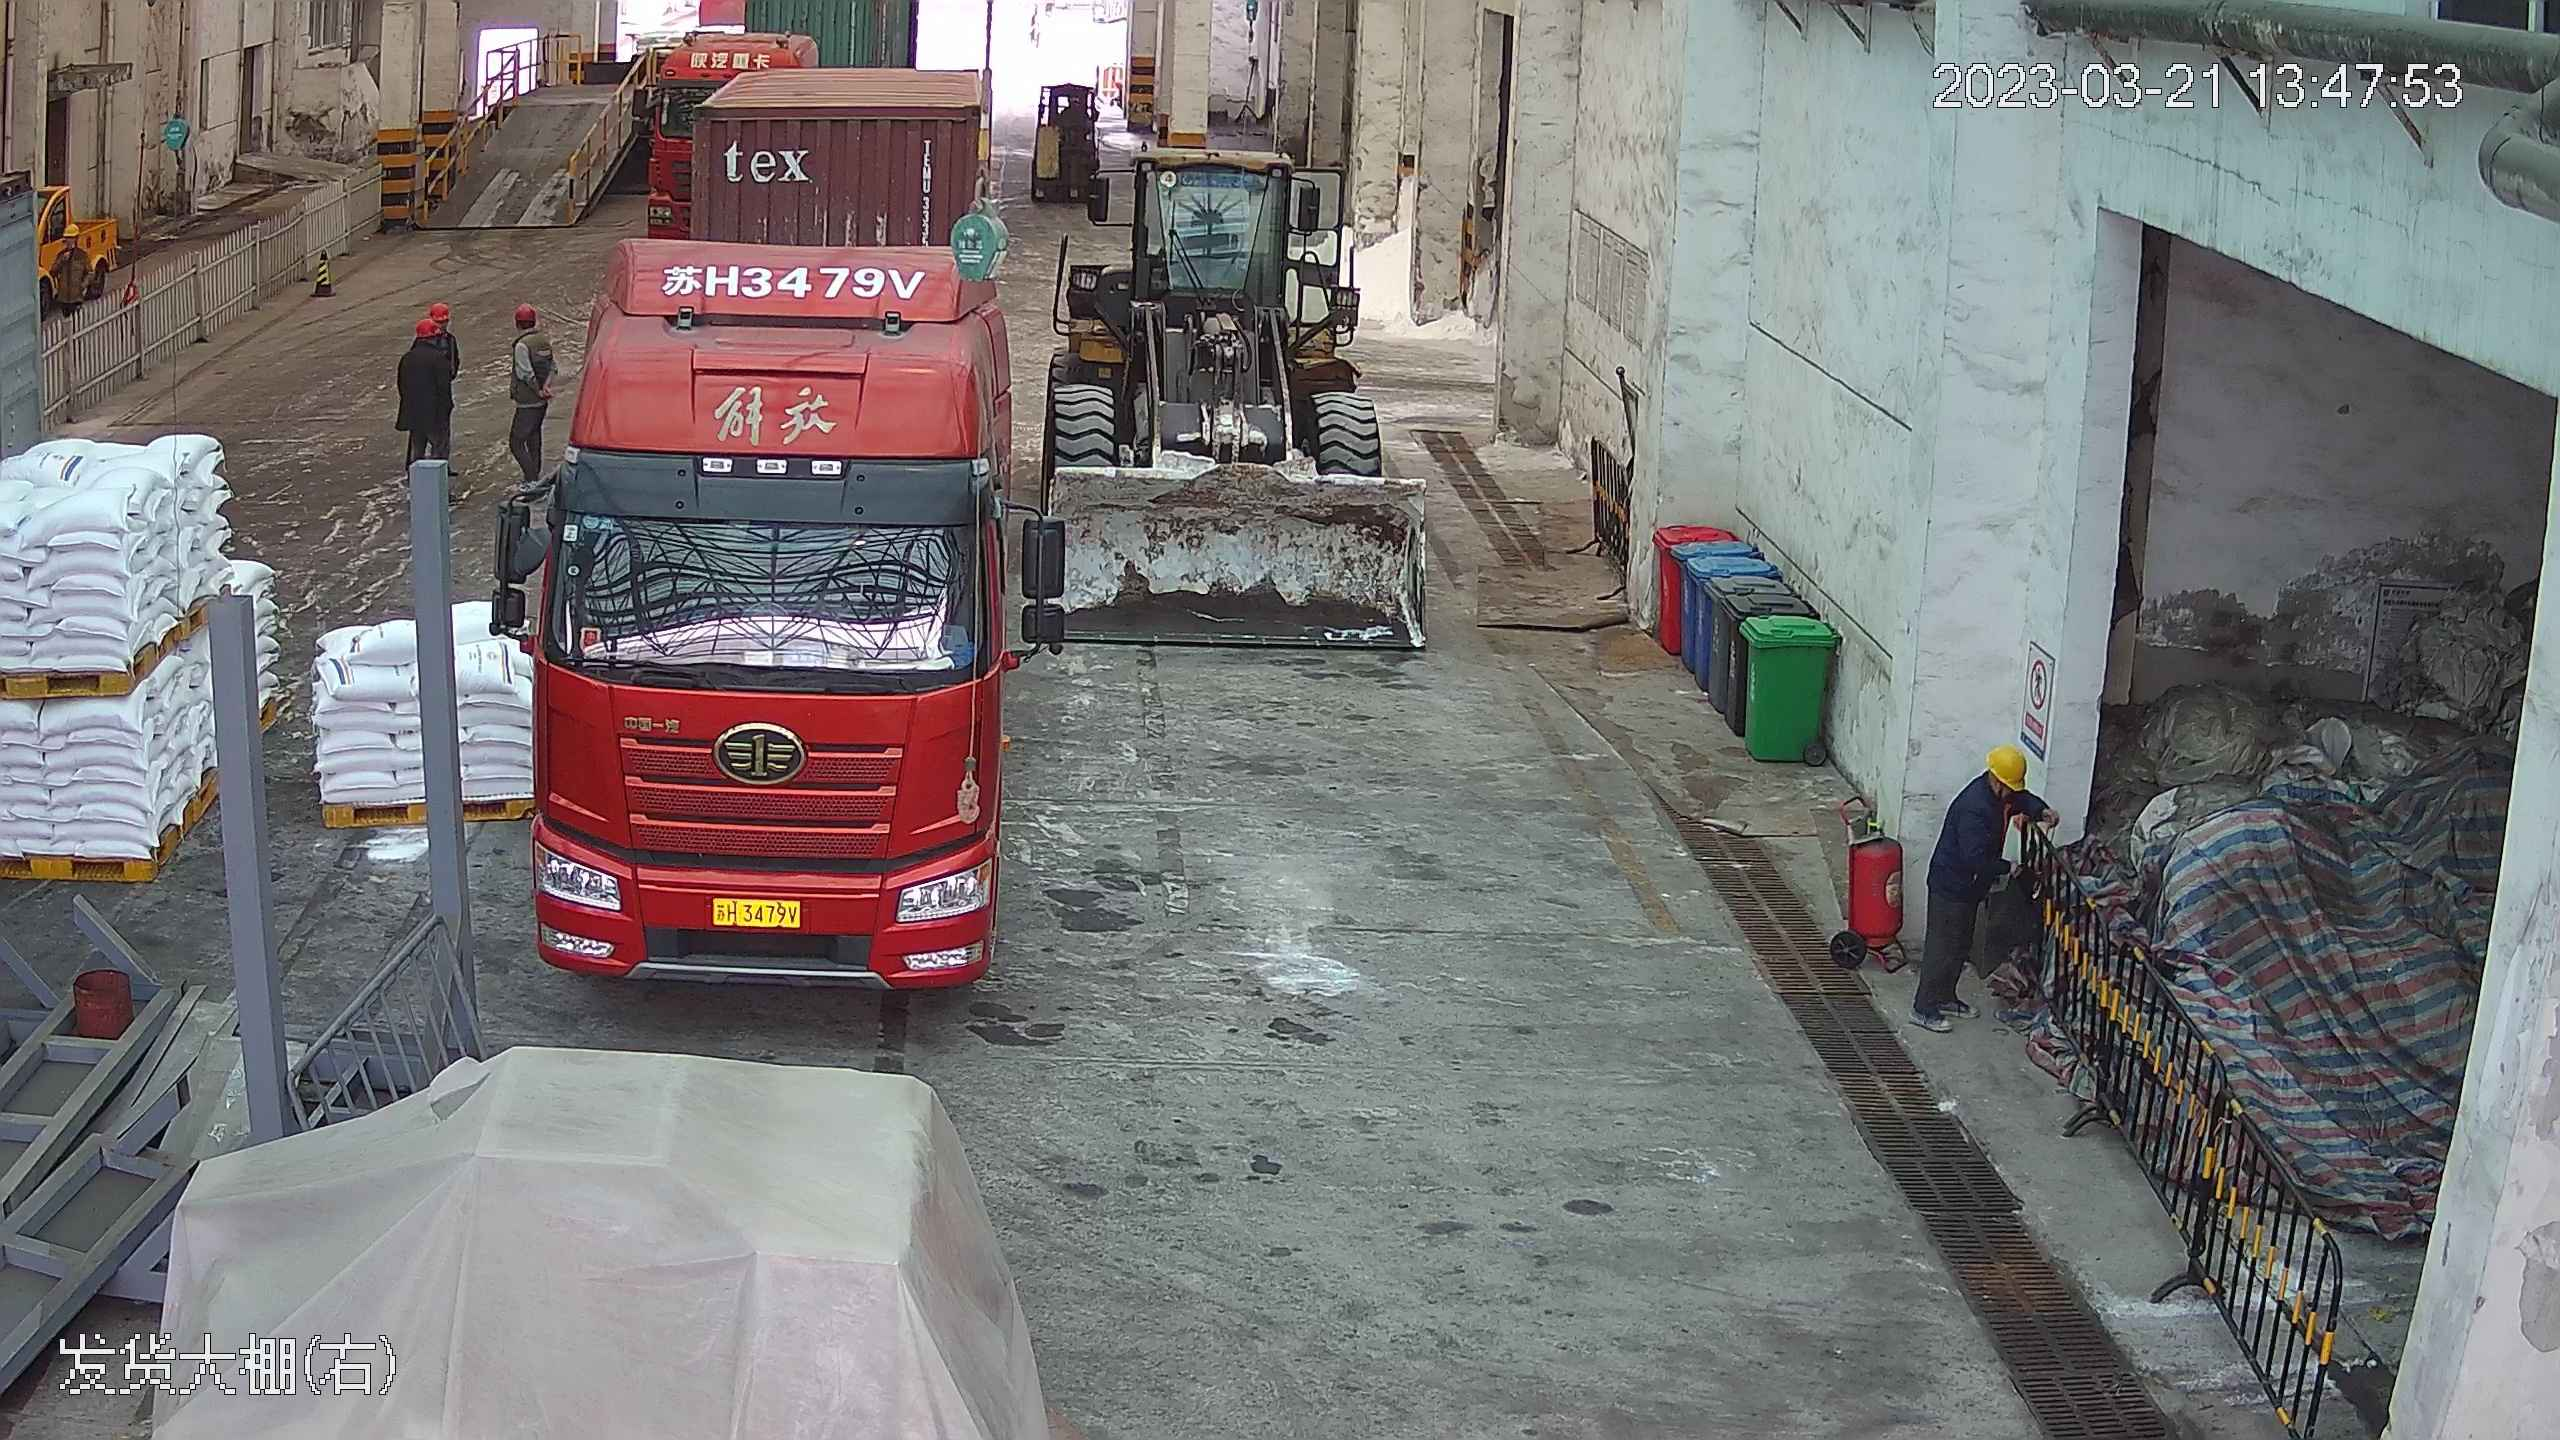head: (1947, 739, 2046, 837), (397, 315, 448, 378), (507, 301, 551, 359)
helmet: (1984, 738, 2033, 790), (410, 315, 439, 338), (512, 301, 539, 321), (428, 302, 452, 322)
people: (1920, 738, 2055, 1018), (381, 319, 448, 485), (503, 297, 555, 481)
truck: (504, 20, 1036, 993)
